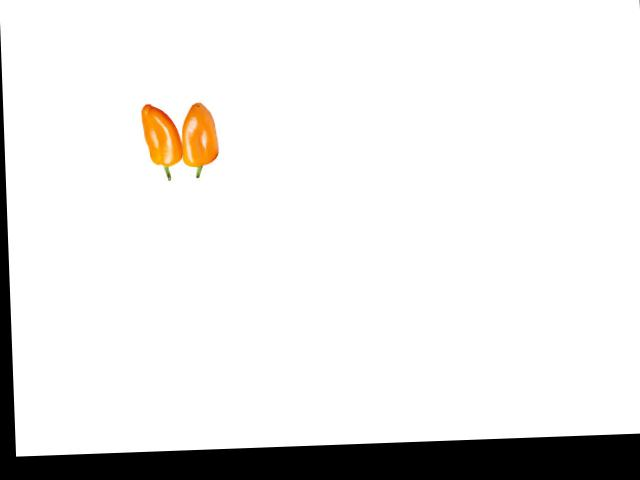bell_pepper: (178, 86, 227, 180)
